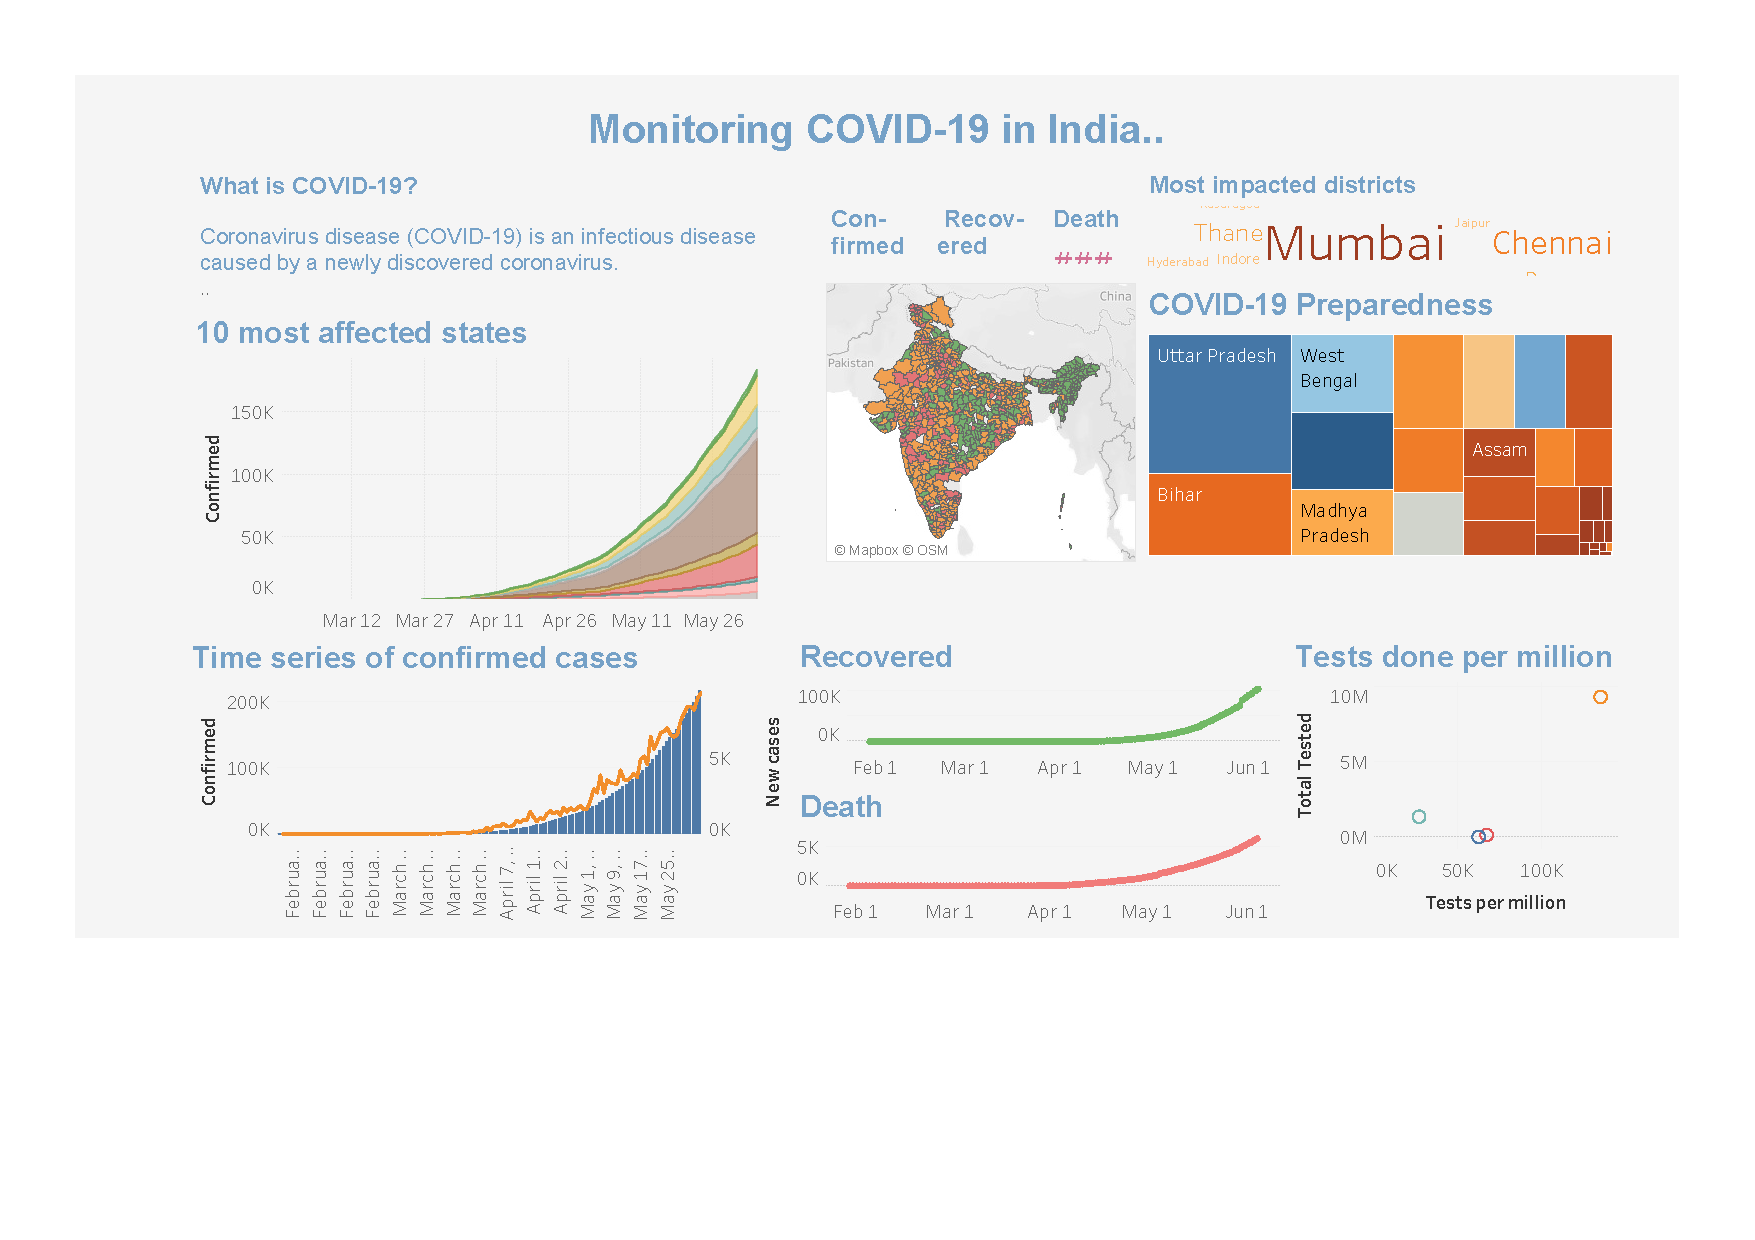

The dashboard page shown, as its layout file describes it:
{"tool":"tableau","page":{"name":"COVID","canvas":[1000,1000],"units":"permille","ordinal":0},"visuals":[{"type":"worksheet","box":[18.7,23.2,961.4,79.7]},{"type":"worksheet","title":"District","mark":"Text","box":[667.1,104,292.6,129.4]},{"type":"worksheet","box":[75.5,110.6,385.6,154.9]},{"type":"worksheet","title":"Confirmed","mark":"Automatic","box":[468.7,143.8,69.6,76.3]},{"type":"worksheet","title":"Recovered","mark":"Automatic","box":[534.8,143.8,68.5,79.7]},{"type":"worksheet","title":"Death","mark":"Automatic","box":[607.4,143.8,53.2,75.2]},{"type":"worksheet","title":"Preparedness","mark":"Automatic","box":[667.1,240,294.3,323]},{"type":"worksheet","title":"India","mark":"Multipolygon","box":[468.7,242.3,193.1,323]},{"type":"worksheet","title":"Top 10","mark":"Area","rows":["Confirmed"],"cols":["Date"],"box":[73.1,272.1,366.3,372.8]},{"type":"worksheet","title":"Recovered series","mark":"Circle","rows":["Cured"],"cols":["Date"],"box":[449.4,648.2,301.9,168.1]},{"type":"worksheet","title":"Indian testing","mark":"Automatic","rows":["totaltested"],"cols":["testspermillion"],"box":[758.3,648.2,203.6,333]},{"type":"worksheet","title":"Confirmed Cases","mark":"Line","rows":["Confirmed","Confirmed"],"cols":["Date"],"box":[70.2,649.3,375.7,333]},{"type":"worksheet","title":"Death Series","mark":"Circle","rows":["Deaths"],"cols":["Date"],"box":[449.4,821.9,301.9,161.5]}]}

Visuals, with their boxes on the dashboard's canvas, which has no fixed pixel size, in thousandths of its width and height (x1, y1, x2, y2). These are canvas units, not pixel positions in the 1755x1240 screenshot, which may show the page scaled, cropped or inside an application window:
worksheet: crop(19, 23, 980, 103)
"District" worksheet (Text marks): crop(667, 104, 960, 233)
worksheet: crop(76, 111, 461, 266)
"Confirmed" worksheet: crop(469, 144, 538, 220)
"Recovered" worksheet: crop(535, 144, 603, 224)
"Death" worksheet: crop(607, 144, 661, 219)
"Preparedness" worksheet: crop(667, 240, 961, 563)
"India" worksheet (Multipolygon marks): crop(469, 242, 662, 565)
"Top 10" worksheet (Area marks): crop(73, 272, 439, 645)
"Recovered series" worksheet (Circle marks): crop(449, 648, 751, 816)
"Indian testing" worksheet: crop(758, 648, 962, 981)
"Confirmed Cases" worksheet (Line marks): crop(70, 649, 446, 982)
"Death Series" worksheet (Circle marks): crop(449, 822, 751, 983)
